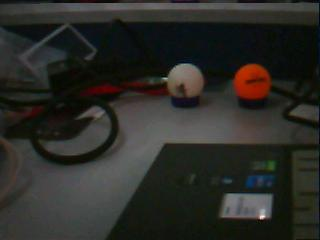oball: (233, 64, 270, 98)
